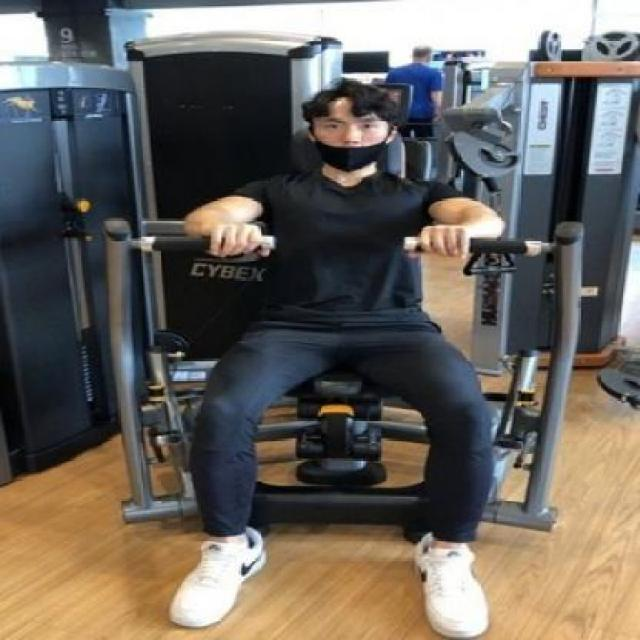Chest Press machine: (6, 32, 639, 640)
